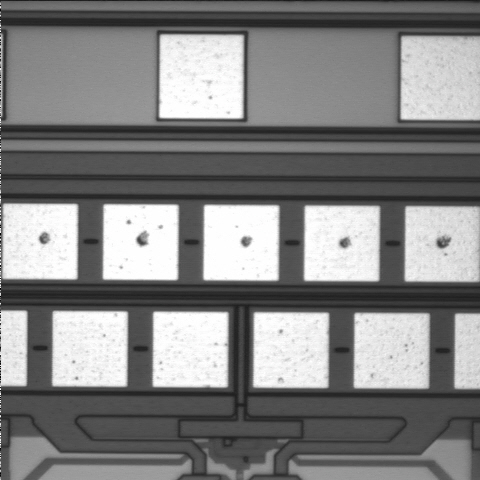pad: (159, 35, 243, 119), (2, 204, 78, 280), (103, 204, 179, 280), (203, 205, 279, 281), (52, 311, 128, 387), (253, 312, 329, 388), (304, 206, 380, 281), (153, 312, 228, 387), (354, 313, 429, 388)
